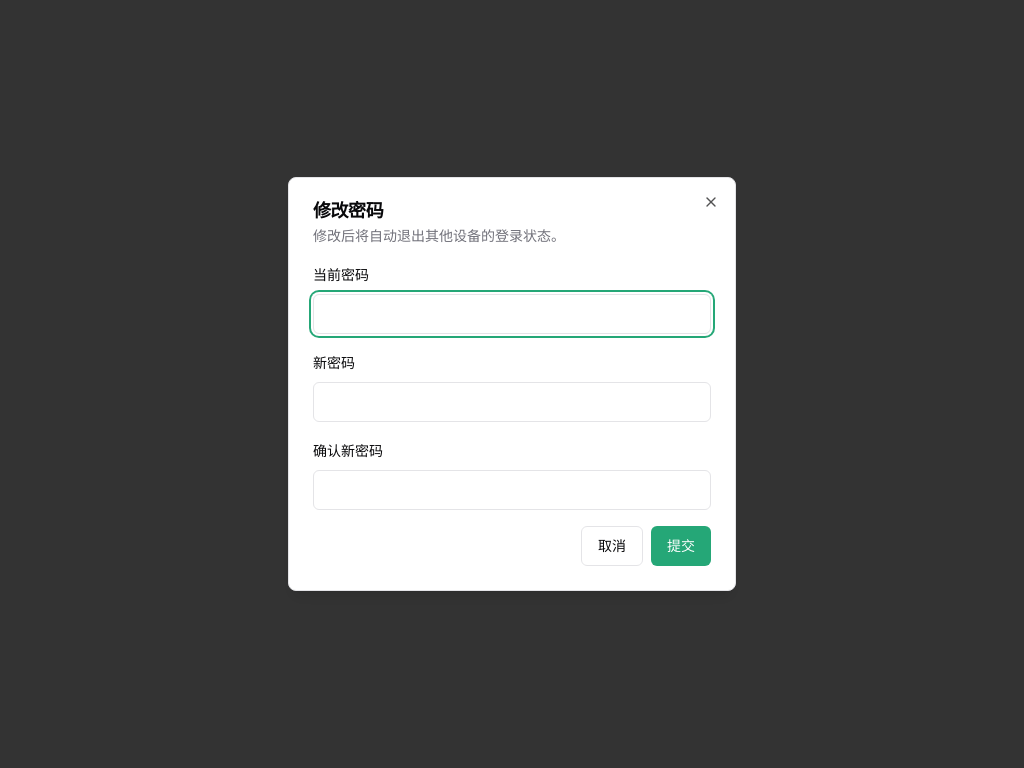
Test: ChangePasswordDialog › 400 → 当前密码错字段错误
This screenshot has width=1024, height=768.
Type "wrong" into the password field with test id "pwd-current" at (512, 314), box [313,294,711,334]
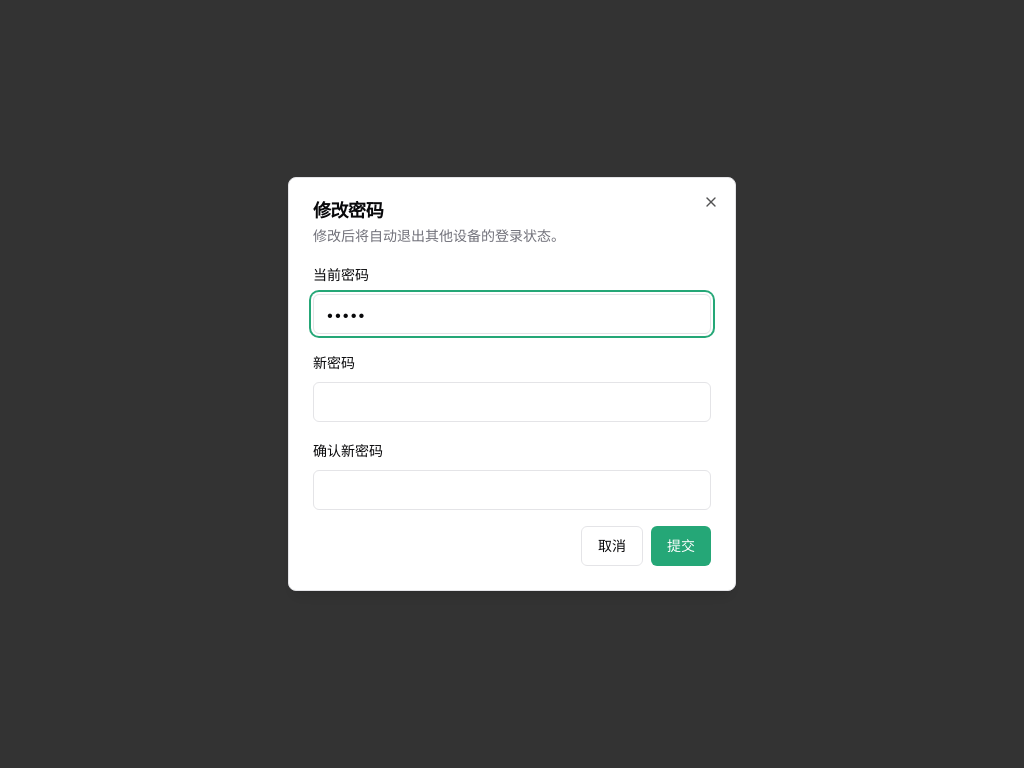
Type "newpass-12" into the password field with test id "pwd-new" at (512, 402), box [313,382,711,422]
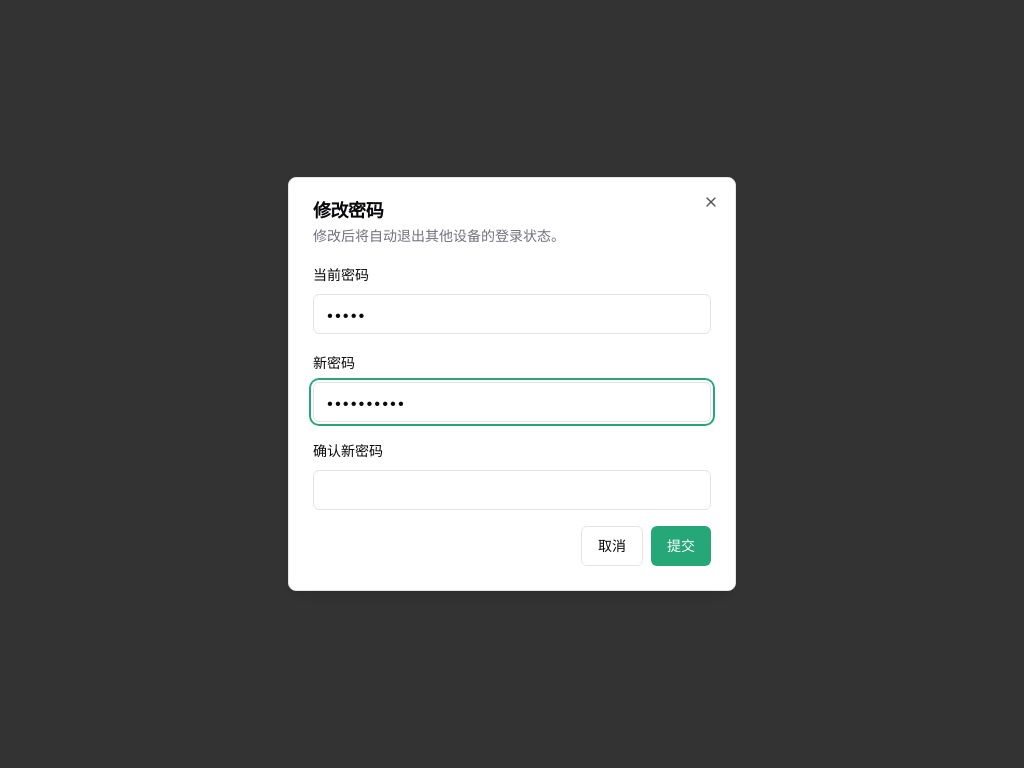
Type "newpass-12" into the password field with test id "pwd-confirm" at (512, 490), box [313,470,711,510]
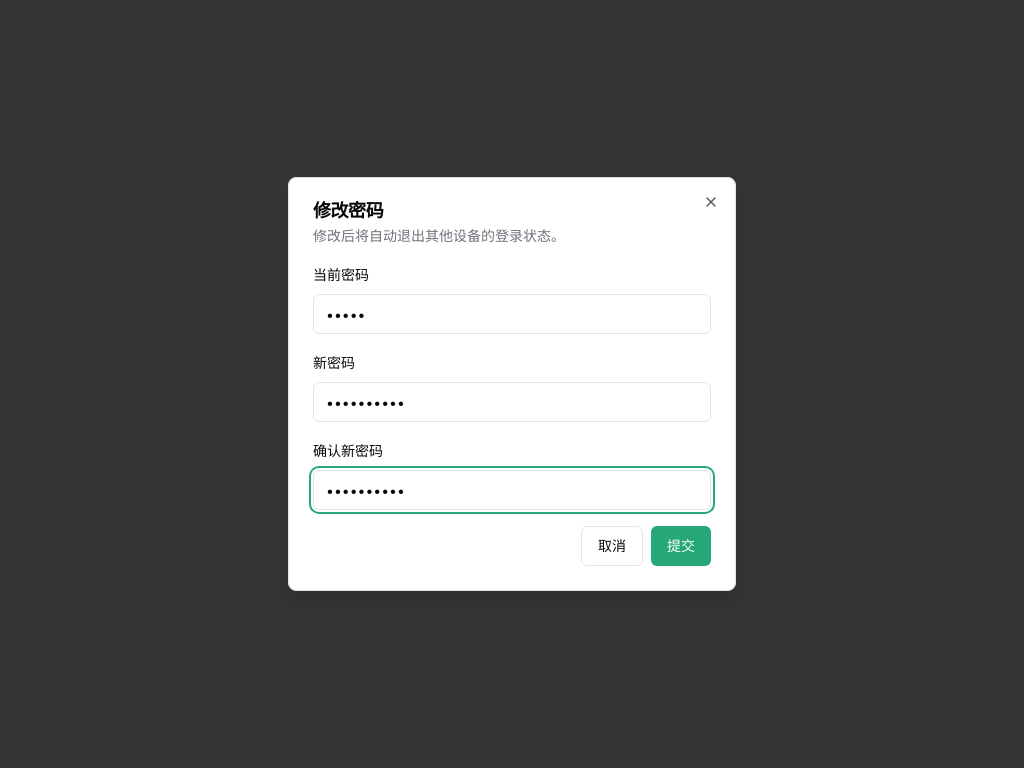
Click the button with test id "pwd-submit" at (681, 546), box [651,526,711,566]
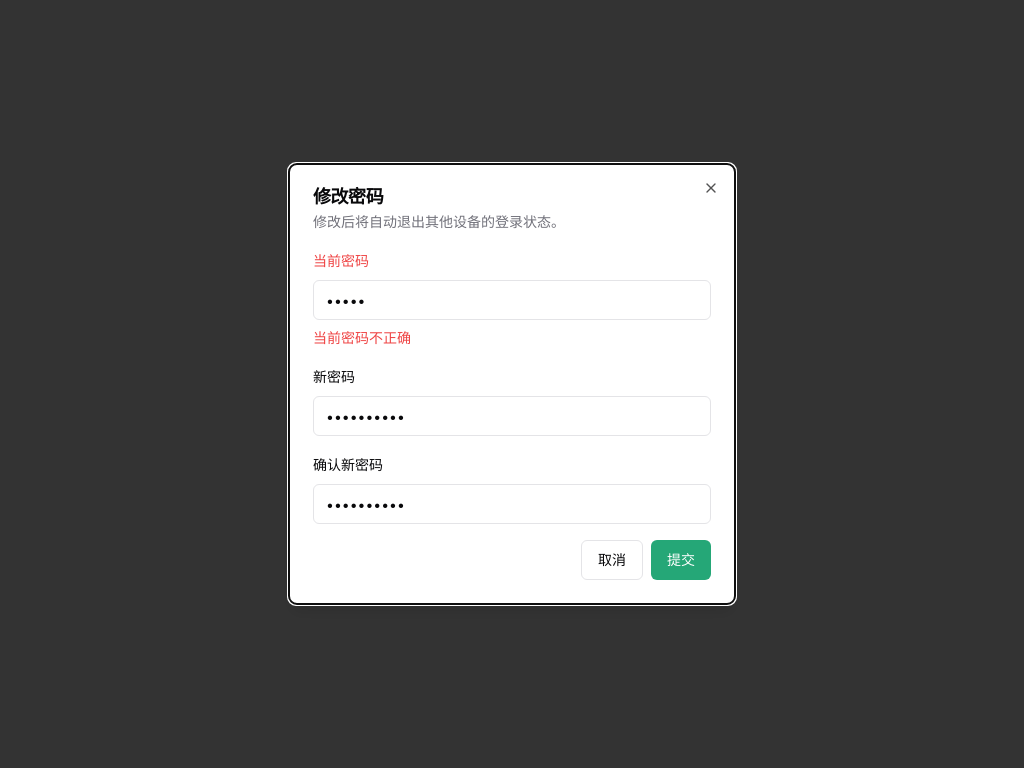
Check: the text "当前密码不正确" is shown, box [313,329,411,346]
